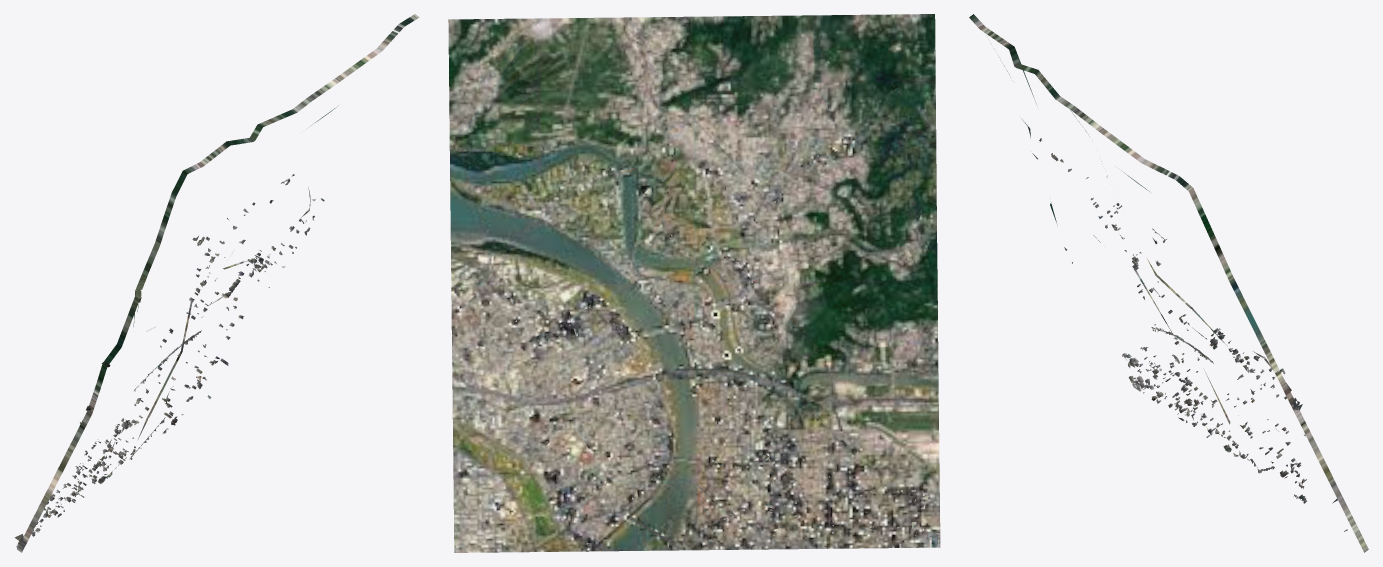
3 renders of one model, left to right at view 1: azimuth 30°, elevation 25°; view 2: azimuth 150°, elevation 25°; view 3: azimuth 270°, elevation 25°, orthographic. The views are drawn at different scales.
Size of the model in its own units: 9799 by 9096 by 7904.
Materials: 1 (1 with a texture image).
